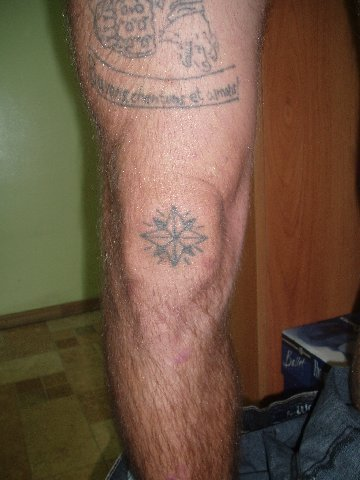tatu3_bukva: (90, 67, 241, 112)
tatu4_zvezda: (131, 203, 218, 279)
